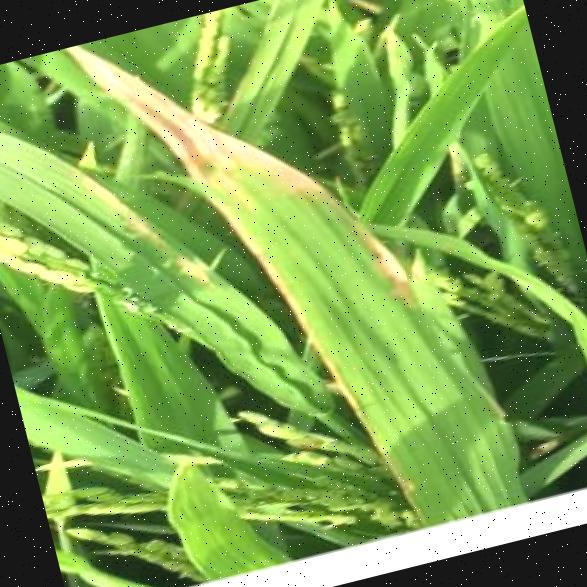Bacteria_Leaf_Blight: (160, 17, 456, 484)
